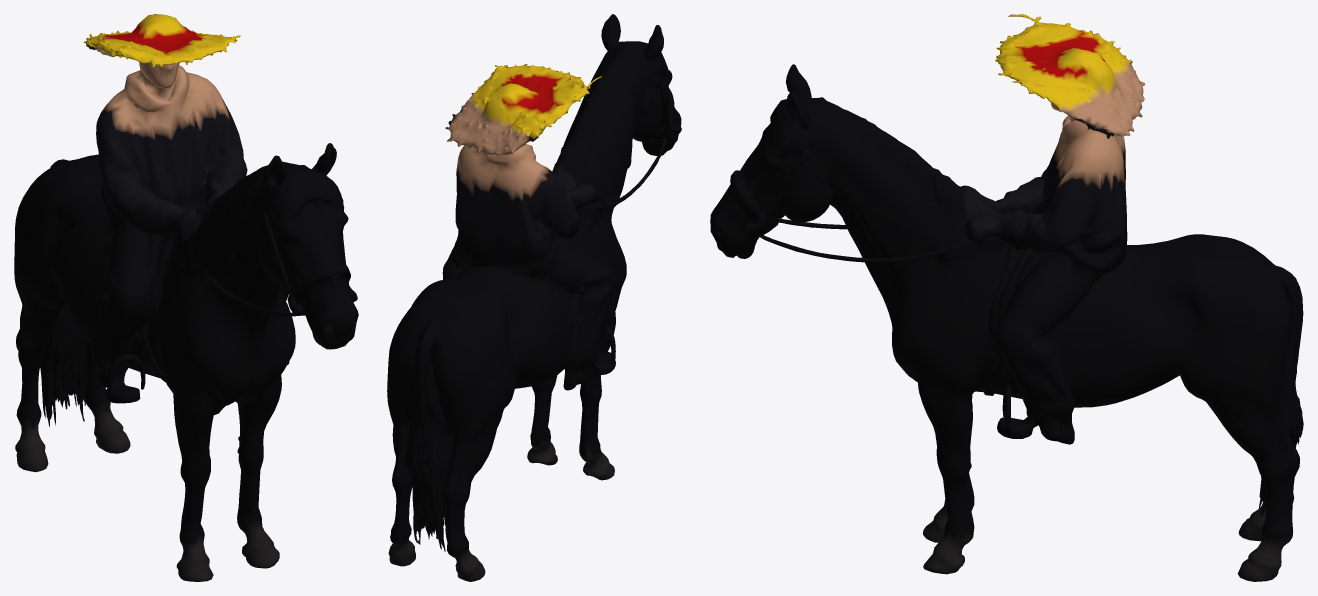
Rendered from horse_black.glb.
3 renders of one model, left to right at view 1: azimuth 30°, elevation 25°; view 2: azimuth 150°, elevation 25°; view 3: azimuth 270°, elevation 25°, orthographic. The views are drawn at different scales.
Visible parts, largest first — view 1: tripo_node_960188ef-a850-4df5-bb49-f3a7d85b7604; view 2: tripo_node_960188ef-a850-4df5-bb49-f3a7d85b7604; view 3: tripo_node_960188ef-a850-4df5-bb49-f3a7d85b7604.
Part boxes in pixels (x1=…): tripo_node_960188ef-a850-4df5-bb49-f3a7d85b7604: x1=14, y1=14, x2=358, y2=581; tripo_node_960188ef-a850-4df5-bb49-f3a7d85b7604: x1=387, y1=14, x2=681, y2=581; tripo_node_960188ef-a850-4df5-bb49-f3a7d85b7604: x1=710, y1=14, x2=1303, y2=581.
Bounding box in the file's own units: 0.3679 × 0.9485 × 0.9997.
